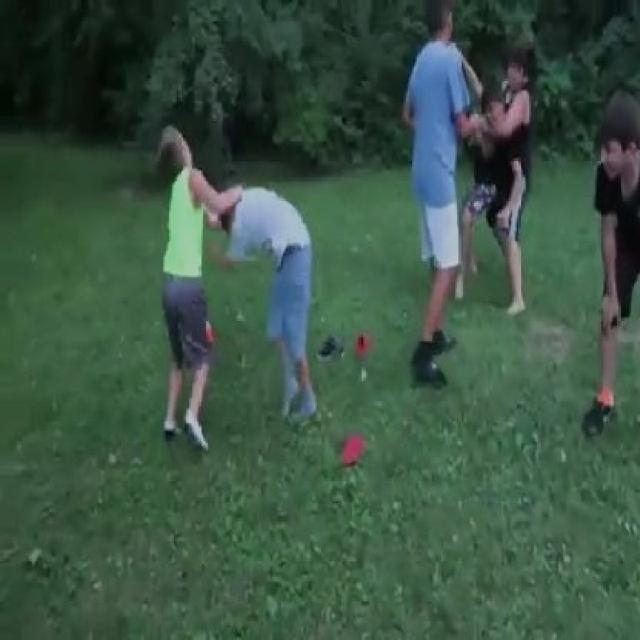fight: (144, 123, 322, 446), (461, 50, 533, 316)
non-fight: (402, 0, 482, 382), (581, 109, 640, 425)
